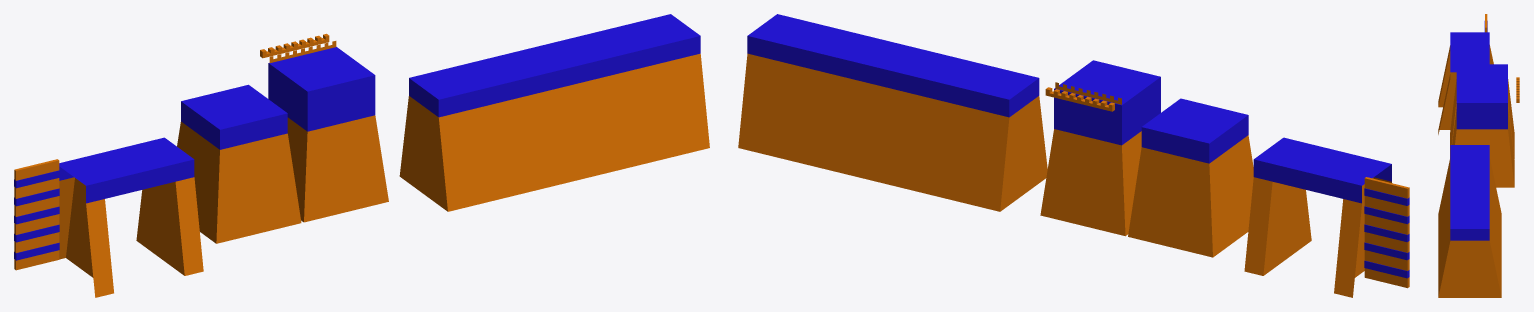
File: troy.fbx
The picture shows the model from 3 angles, left to right: view 1: azimuth 30°, elevation 25°; view 2: azimuth 150°, elevation 25°; view 3: azimuth 270°, elevation 25°; orthographic projection. The views are drawn at different scales.
Parts seen in each view (by area): view 1: Wall, Entrance Tower, Keep, GateArch, Gate, Cube.003; view 2: Wall, Keep, Entrance Tower, GateArch, Gate, Cube.003; view 3: Wall, Entrance Tower, GateArch, Keep, Cube.003.
Boxes of the visible parts, bbox=[...] form: Wall: bbox=[399, 14, 709, 211]; Entrance Tower: bbox=[268, 47, 388, 222]; Keep: bbox=[177, 84, 301, 243]; GateArch: bbox=[59, 137, 203, 297]; Gate: bbox=[14, 159, 59, 270]; Cube.003: bbox=[260, 33, 329, 58]; Wall: bbox=[738, 14, 1047, 211]; Keep: bbox=[1128, 98, 1253, 257]; Entrance Tower: bbox=[1040, 60, 1160, 236]; GateArch: bbox=[1244, 137, 1391, 297]; Gate: bbox=[1364, 177, 1409, 288]; Cube.003: bbox=[1045, 87, 1114, 111]; Wall: bbox=[1438, 145, 1501, 297]; Entrance Tower: bbox=[1452, 81, 1514, 187]; GateArch: bbox=[1438, 32, 1493, 134]; Keep: bbox=[1450, 64, 1514, 159]; Cube.003: bbox=[1516, 77, 1519, 102].
Size of the model in its own units: 43328 by 9260 by 7068.
